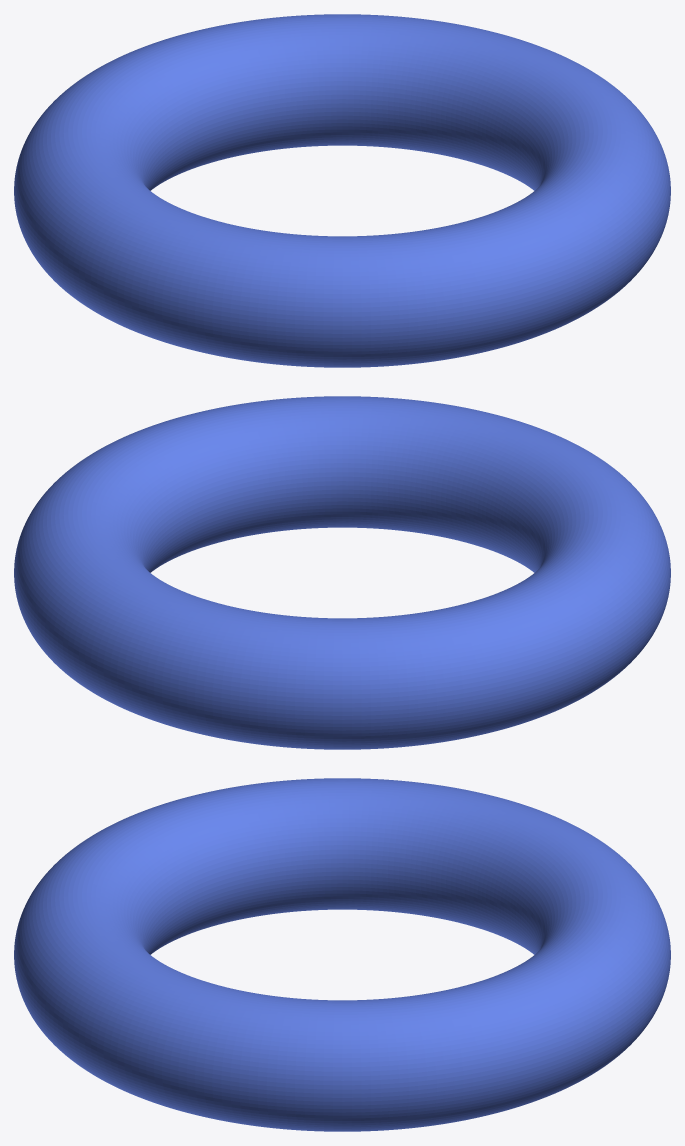
Rendered from blue ring.glb.
3 views of the same model, one above another, from view 1: azimuth 30°, elevation 25°; view 2: azimuth 150°, elevation 25°; view 3: azimuth 270°, elevation 25° (orthographic).
Parts seen in each view (by area): view 1: Torus.002; view 2: Torus.002; view 3: Torus.002.
Boxes of the visible parts, x1,y1,x2,y2 form: Torus.002: (14, 14, 670, 367); Torus.002: (14, 396, 670, 749); Torus.002: (14, 778, 670, 1131).
Size of the model in its own units: 2.5 by 0.4997 by 2.5.
